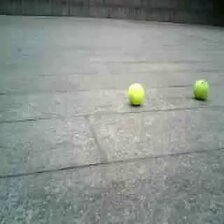tennis: (128, 82, 145, 103), (193, 80, 209, 98)
